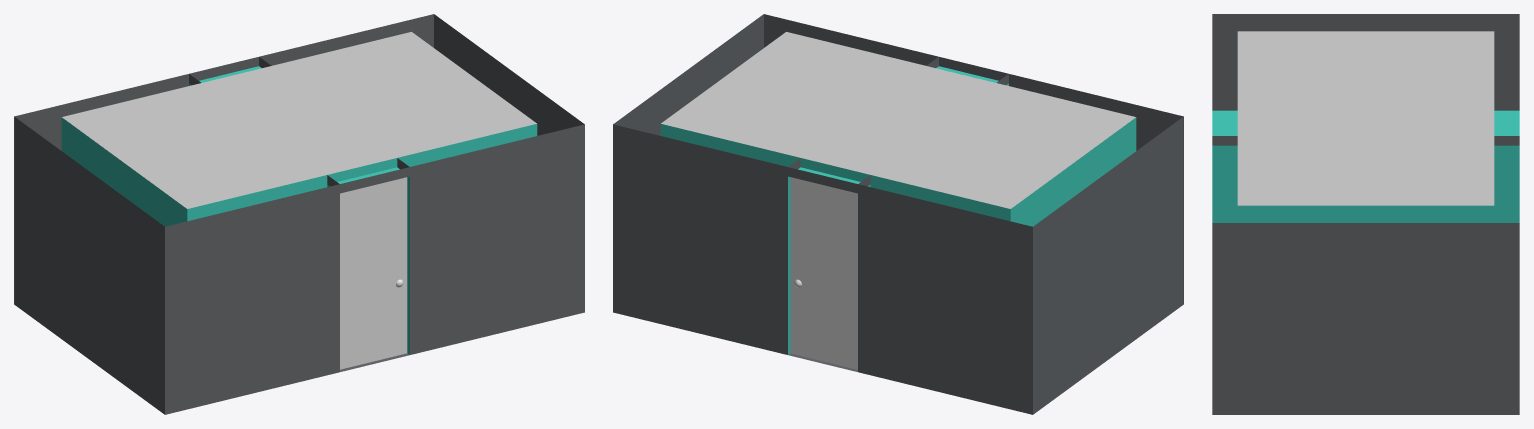
The model's file is Switch Room 2.fbx.
3 renders of one model, left to right at view 1: azimuth 30°, elevation 25°; view 2: azimuth 150°, elevation 25°; view 3: azimuth 270°, elevation 25°, orthographic. The views are drawn at different scales.
Visible parts, largest first — view 1: Switch Room 02, Door 01; view 2: Switch Room 02, Door 02; view 3: Switch Room 02.
Boxes of the visible parts, <box> form: Switch Room 02: <box>14,14,584,414</box>; Door 01: <box>340,177,407,369</box>; Switch Room 02: <box>613,14,1183,414</box>; Door 02: <box>790,177,857,369</box>; Switch Room 02: <box>1212,14,1519,414</box>.
Bounding box in the file's own units: 1610 × 695 × 1001.
